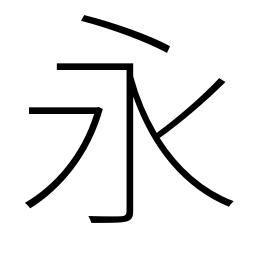D: (79, 11, 172, 54)
HSZ: (106, 60, 136, 87)
Hs: (53, 60, 96, 75)
Ne: (188, 180, 235, 209)
PNc: (146, 117, 176, 154)
PZe: (24, 188, 55, 211)
Ps: (200, 76, 226, 102)
SG: (86, 201, 137, 225)
TPZ: (68, 104, 105, 149)
Ts: (122, 141, 140, 181), (26, 104, 59, 118)
